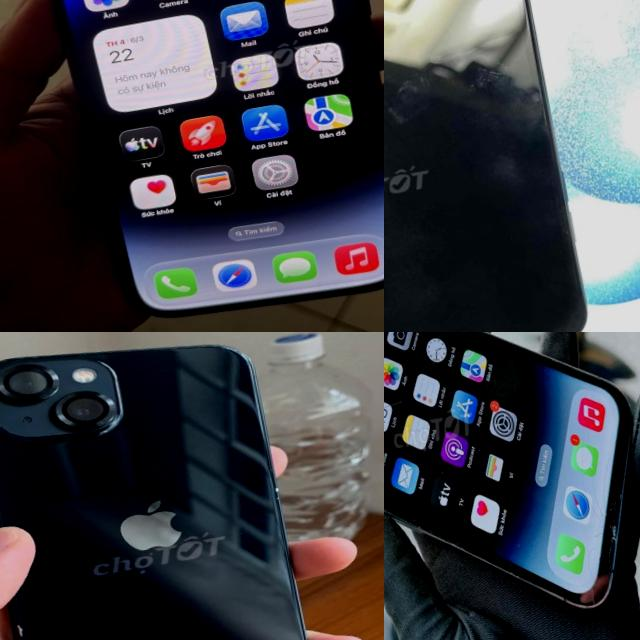gen_11: (384, 0, 585, 332)
gen_12_13: (0, 332, 339, 640)
gen_14: (13, 0, 384, 332), (384, 332, 640, 640)
physical_damage: (590, 516, 638, 564), (572, 562, 618, 612), (570, 446, 622, 490), (576, 480, 625, 524), (384, 375, 422, 426), (1, 609, 53, 640), (572, 524, 596, 560), (262, 476, 288, 502), (0, 473, 17, 501)
